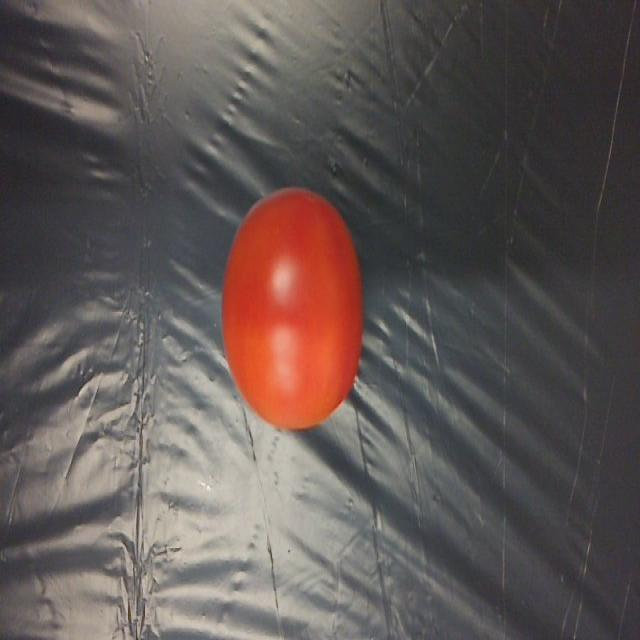sari: (213, 158, 374, 434)
